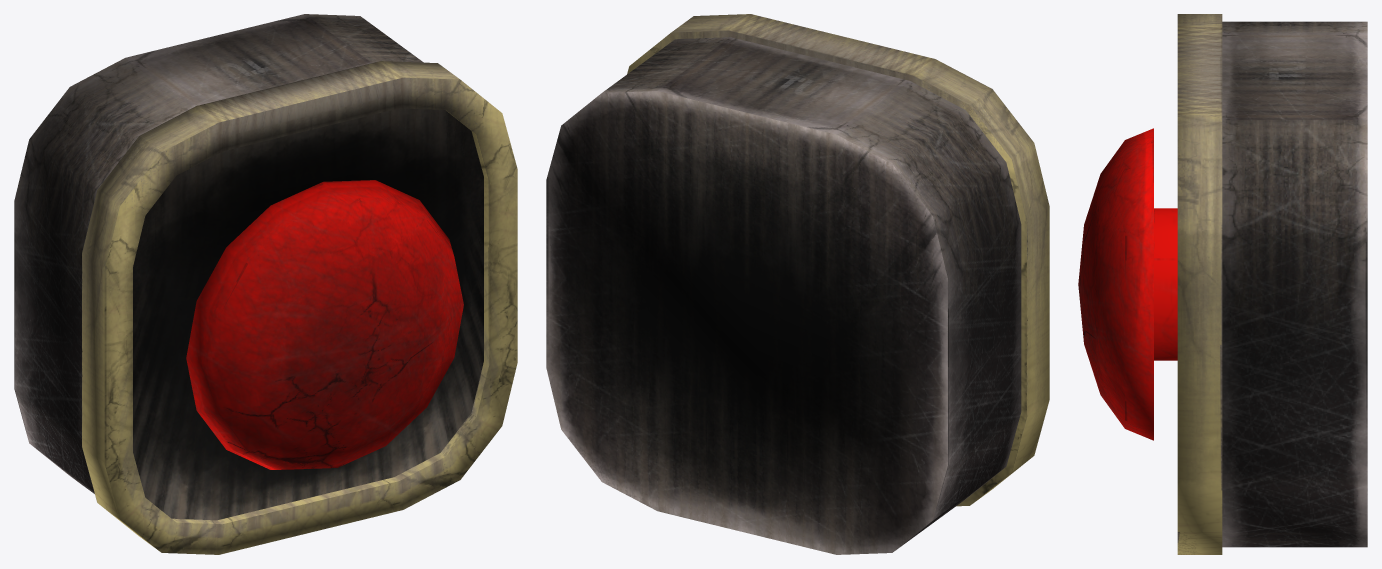
File: button.fbx
The picture shows the model from 3 angles, left to right: view 1: azimuth 30°, elevation 25°; view 2: azimuth 150°, elevation 25°; view 3: azimuth 270°, elevation 25°; orthographic projection.
Visible parts, largest first — view 1: Cube; view 2: Cube; view 3: Cube.
Part boxes in pixels (x1,y1,x2,y2): Cube: (14, 14, 517, 554); Cube: (546, 14, 1049, 554); Cube: (1078, 14, 1367, 554).
Size of the model in its own units: 109 by 109 by 66.57.
